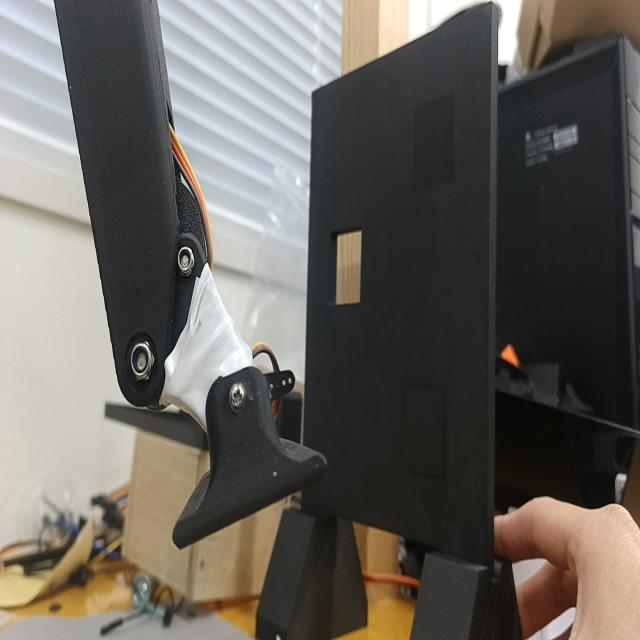Obstacle: (331, 225, 364, 304)
Wall: (302, 7, 492, 563)
